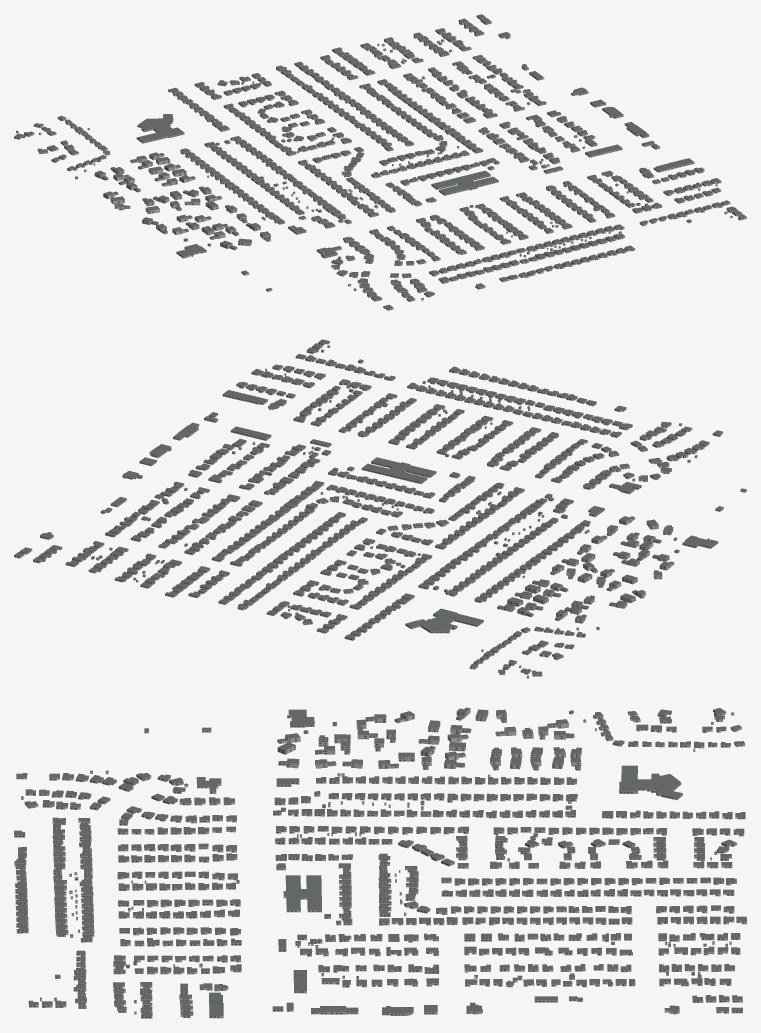
3 renders of one model, top to bottom at view 1: azimuth 30°, elevation 25°; view 2: azimuth 150°, elevation 25°; view 3: azimuth 270°, elevation 25°, orthographic. The views are drawn at different scales.
Visible parts, largest first — view 1: Buildings (0, -9) Roof membrane, Buildings (0, -9) Masonry brick, Buildings (0, -9) Architectural tinted glass, Buildings (0, -9) Metal coping; view 2: Buildings (0, -9) Roof membrane, Buildings (0, -9) Masonry brick, Buildings (0, -9) Architectural tinted glass, Buildings (0, -9) Metal coping; view 3: Buildings (0, -9) Roof membrane, Buildings (0, -9) Masonry brick, Buildings (0, -9) Architectural tinted glass, Buildings (0, -9) Metal coping.
Boxes of the visible parts, <box> form: Buildings (0, -9) Roof membrane: <box>14,14,746,308</box>; Buildings (0, -9) Masonry brick: <box>14,16,746,310</box>; Buildings (0, -9) Architectural tinted glass: <box>14,16,744,309</box>; Buildings (0, -9) Metal coping: <box>23,15,738,307</box>; Buildings (0, -9) Roof membrane: <box>14,339,746,676</box>; Buildings (0, -9) Masonry brick: <box>14,341,746,678</box>; Buildings (0, -9) Architectural tinted glass: <box>14,342,746,676</box>; Buildings (0, -9) Metal coping: <box>14,341,723,674</box>; Buildings (0, -9) Roof membrane: <box>14,707,746,1016</box>; Buildings (0, -9) Masonry brick: <box>14,708,746,1018</box>; Buildings (0, -9) Architectural tinted glass: <box>15,710,744,1017</box>; Buildings (0, -9) Metal coping: <box>14,708,745,1013</box>.
Size of the model in its own units: 1010 by 8.96 by 1015.
